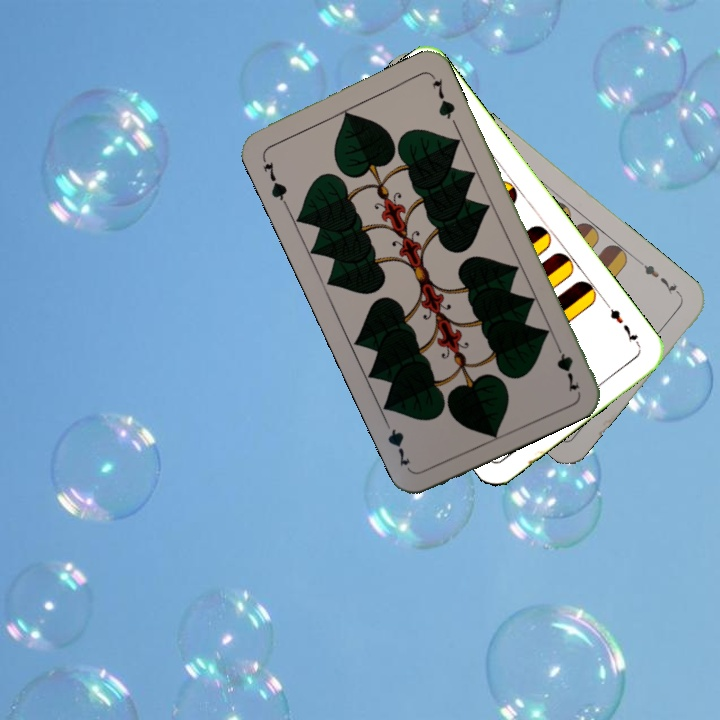E7: (602, 299, 643, 349), (639, 260, 683, 299)
G7: (550, 337, 583, 395), (258, 153, 290, 208)
